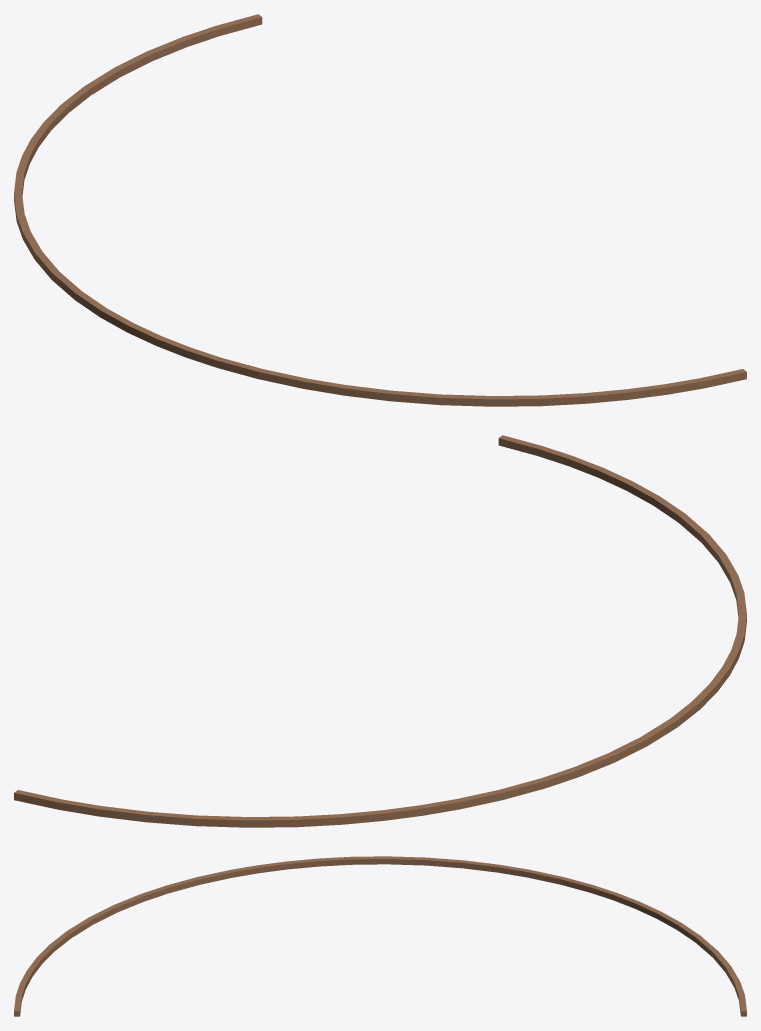
Rendered from Metal_Stem_02_Bend_01.fbx.
The picture shows the model from 3 angles, top to bottom: view 1: azimuth 30°, elevation 25°; view 2: azimuth 150°, elevation 25°; view 3: azimuth 270°, elevation 25°; orthographic projection. The views are drawn at different scales.
Parts seen in each view (by area): view 1: Metal_Stem_02_Bend_01; view 2: Metal_Stem_02_Bend_01; view 3: Metal_Stem_02_Bend_01.
Part boxes in pixels (left/top/right/bottom): Metal_Stem_02_Bend_01: left=14, top=14, right=746, bottom=406; Metal_Stem_02_Bend_01: left=14, top=435, right=746, bottom=827; Metal_Stem_02_Bend_01: left=14, top=856, right=746, bottom=1016.
Size of the model in its own units: 205 by 3.38 by 410.
